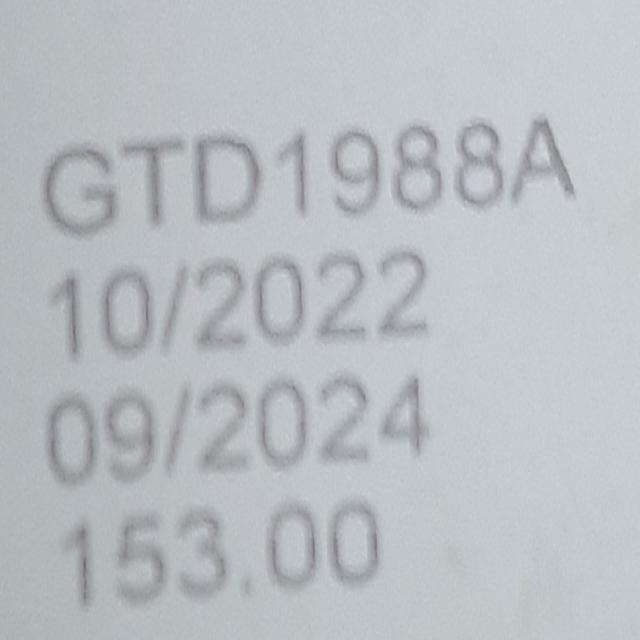sentence: (44, 116, 574, 237), (48, 369, 429, 485), (50, 249, 429, 360), (64, 500, 378, 610)
